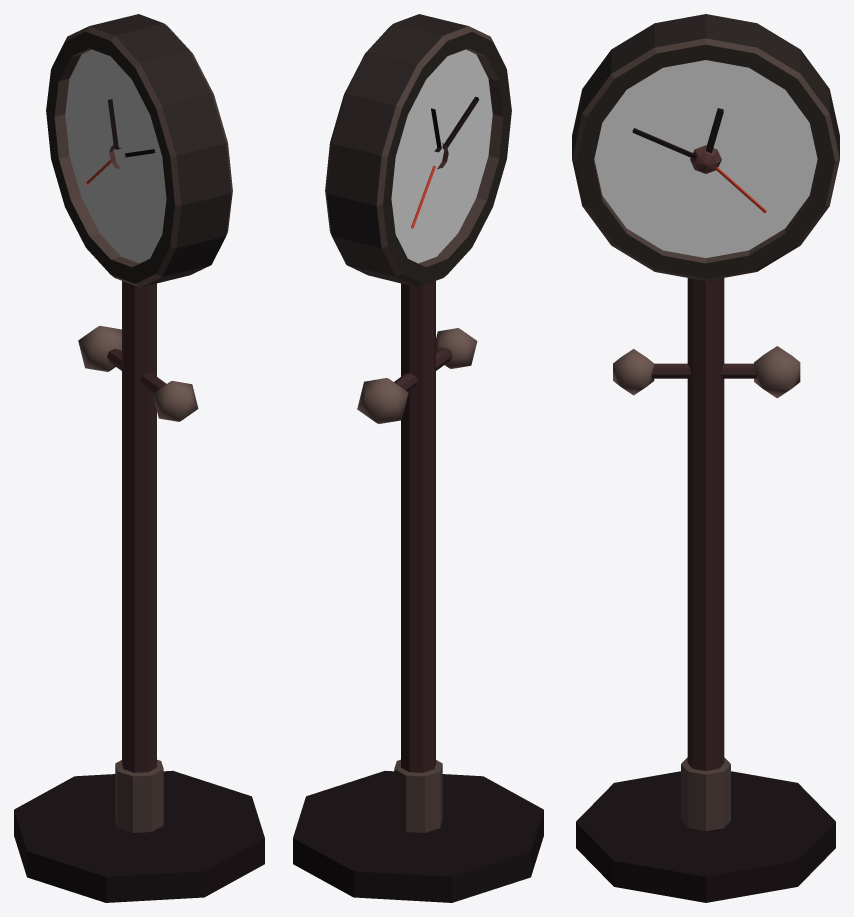
The model's file is StreetClock_01.glb.
3 views of the same model, side by side, from view 1: azimuth 30°, elevation 25°; view 2: azimuth 150°, elevation 25°; view 3: azimuth 270°, elevation 25° (orthographic).
Visible parts, largest first — view 1: StreetClock_01; view 2: StreetClock_01; view 3: StreetClock_01.
Boxes of the visible parts, x1=… form: StreetClock_01: x1=14, y1=14, x2=264, y2=902; StreetClock_01: x1=293, y1=14, x2=543, y2=902; StreetClock_01: x1=572, y1=14, x2=839, y2=902.
Size of what is drawn, in the model's own units: 0.8355 by 2.91 by 0.8601.
Materials: 1 (1 with a texture image).
